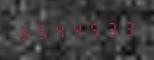five: (85, 19, 101, 39), (34, 21, 50, 40)
four: (51, 20, 67, 40), (68, 20, 84, 39)
six: (17, 22, 33, 41)
three: (102, 19, 118, 38), (119, 18, 135, 37)
